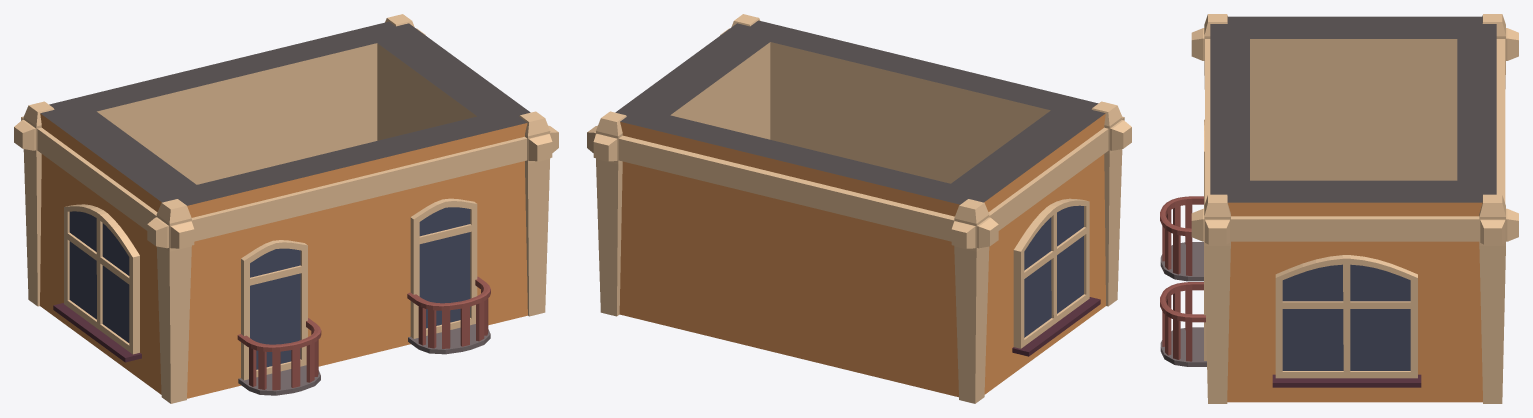
File: Testhouse_Floor_VAR1.fbx
3 renders of one model, left to right at view 1: azimuth 30°, elevation 25°; view 2: azimuth 150°, elevation 25°; view 3: azimuth 270°, elevation 25°, orthographic. The views are drawn at different scales.
Visible parts, largest first — view 1: Testhouse_Floor.001; view 2: Testhouse_Floor.001; view 3: Testhouse_Floor.001.
Part boxes in pixels (x1,y1,x2,y2): Testhouse_Floor.001: [14, 14, 558, 403]; Testhouse_Floor.001: [587, 14, 1131, 403]; Testhouse_Floor.001: [1160, 14, 1518, 403].
Bounding box in the file's own units: 219 × 163 × 101.
